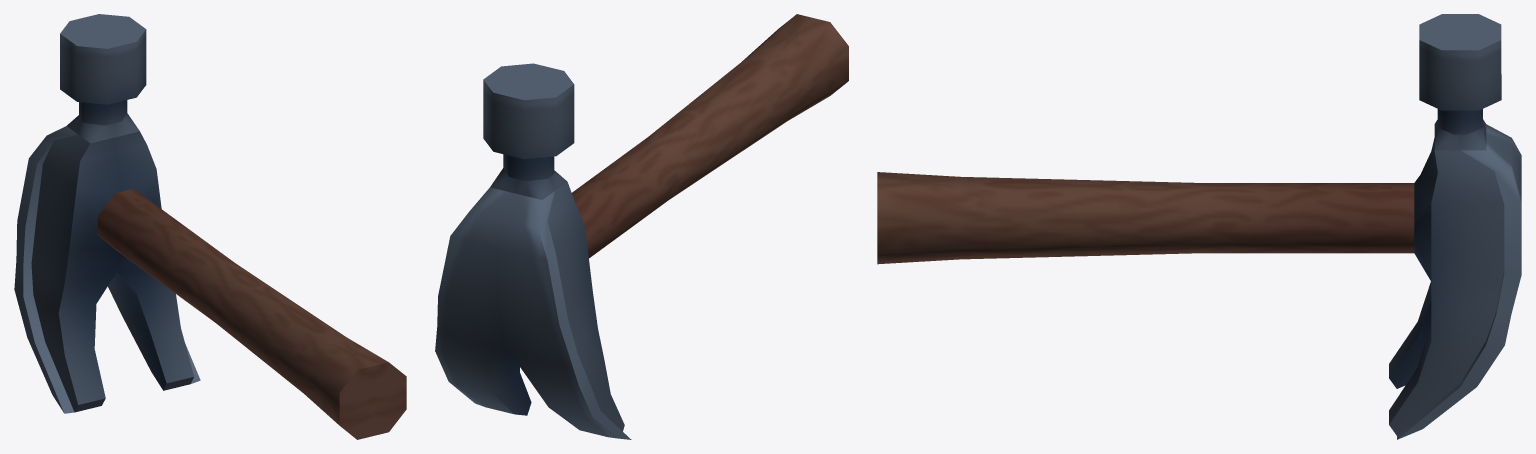
Rendered from SM_HammerFork.fbx.
The picture shows the model from 3 angles, left to right: view 1: azimuth 30°, elevation 25°; view 2: azimuth 150°, elevation 25°; view 3: azimuth 270°, elevation 25°; orthographic projection. The views are drawn at different scales.
Parts seen in each view (by area): view 1: HammerFork; view 2: HammerFork; view 3: HammerFork.
Boxes of the visible parts, x1,y1,x2,y2 form: HammerFork: (14,14,406,439); HammerFork: (435,14,848,439); HammerFork: (877,14,1521,439).
Size of the model in its own units: 18.2 by 44.06 by 68.99.
